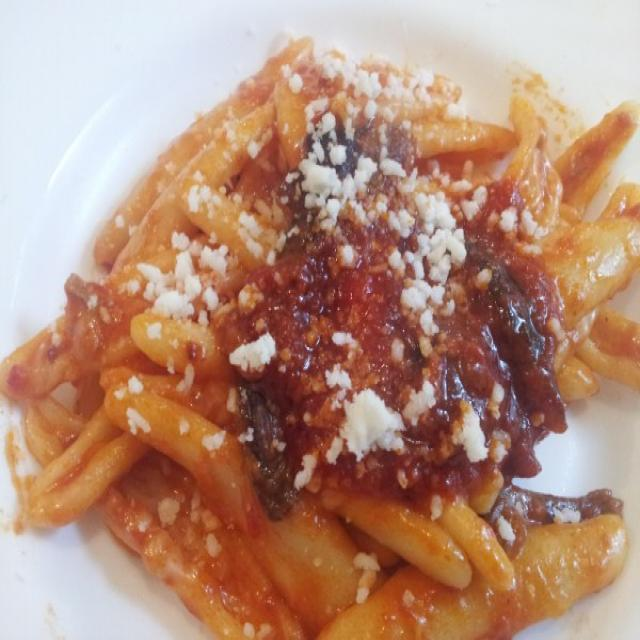Pasta al ragu: (88, 40, 616, 610)
